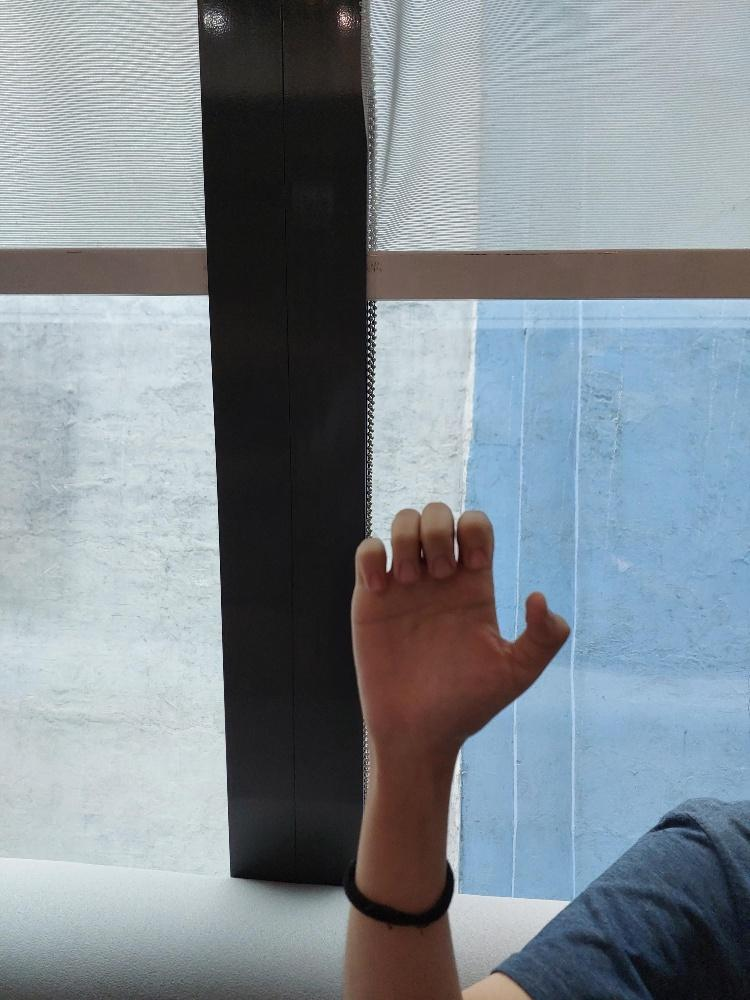e: (353, 502, 571, 734)
